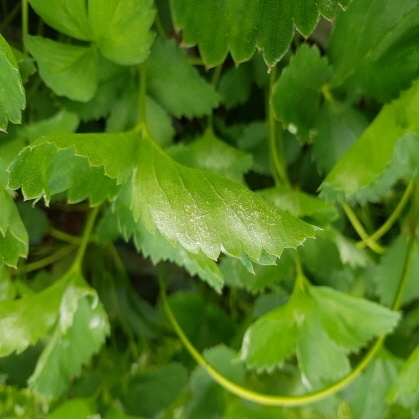Powdery_Leaf: (129, 127, 325, 287), (26, 19, 110, 271)
